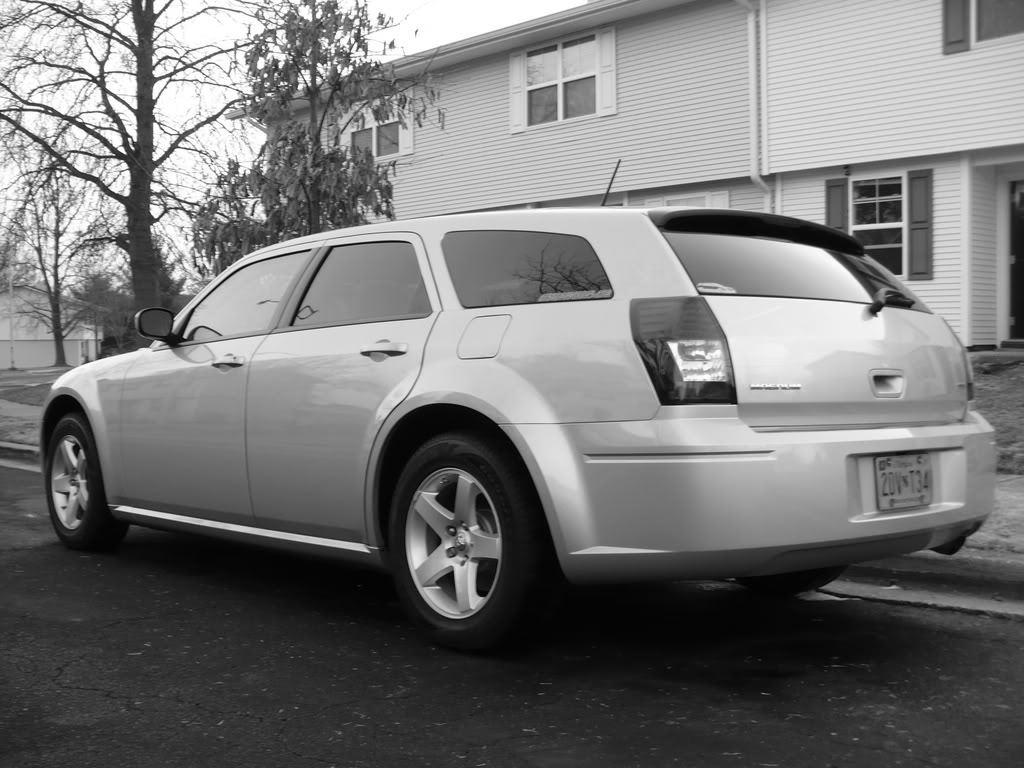car: (33, 200, 1001, 661)
